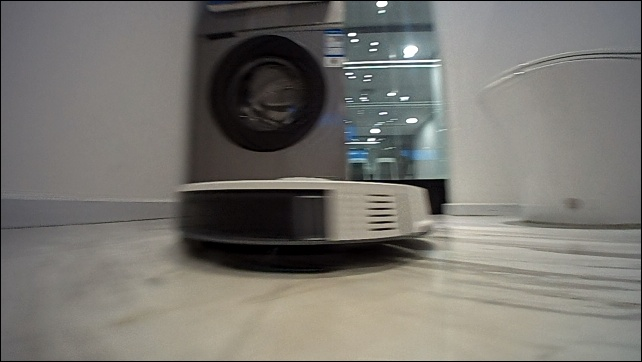toilet: (477, 46, 640, 225)
washing_machine: (190, 3, 351, 189)
